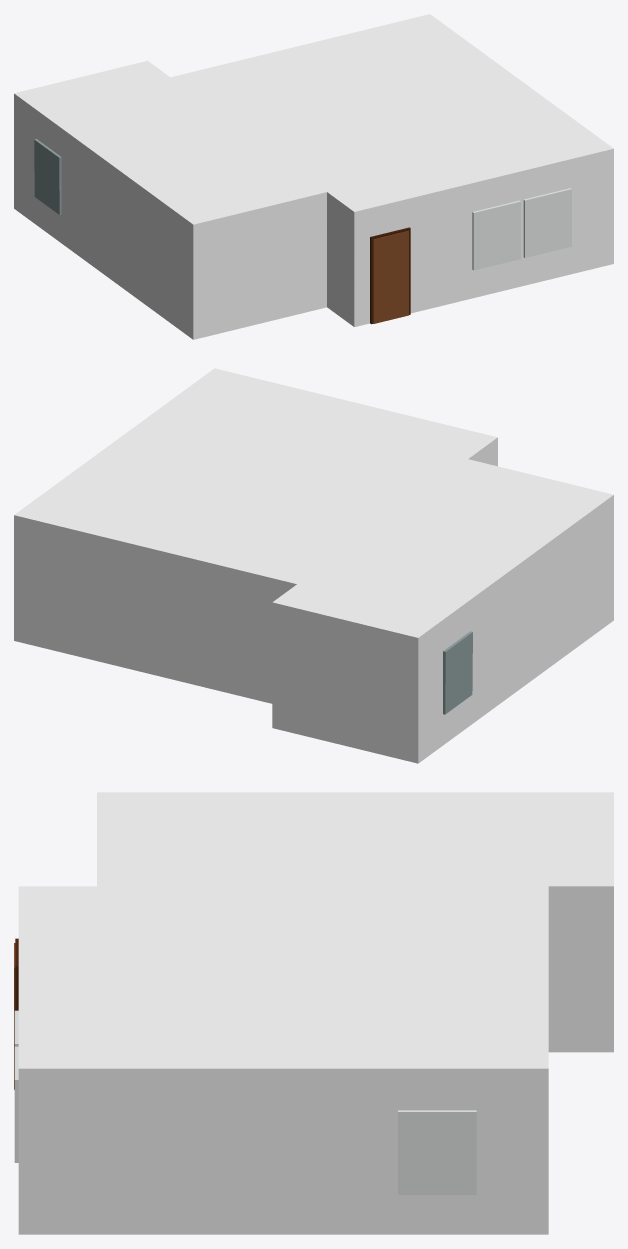
The model's file is Apartment.fbx.
3 renders of one model, top to bottom at view 1: azimuth 30°, elevation 25°; view 2: azimuth 150°, elevation 25°; view 3: azimuth 270°, elevation 25°, orthographic. The views are drawn at different scales.
Parts seen in each view (by area): view 1: Walls, Door, Window_02, Window_01, Window_03; view 2: Walls, Window_03; view 3: Walls, Window_04.
Part boxes in pixels (box(x1,y1,x2,y2)): Walls: box(14, 14, 613, 339); Door: box(370, 227, 410, 324); Window_02: box(472, 200, 520, 270); Window_01: box(523, 188, 571, 257); Window_03: box(34, 139, 61, 214); Walls: box(14, 368, 613, 763); Window_03: box(443, 631, 472, 714); Walls: box(14, 792, 613, 1234); Window_04: box(398, 1110, 476, 1194).
Size of the model in its own units: 1012 by 280 by 917.
